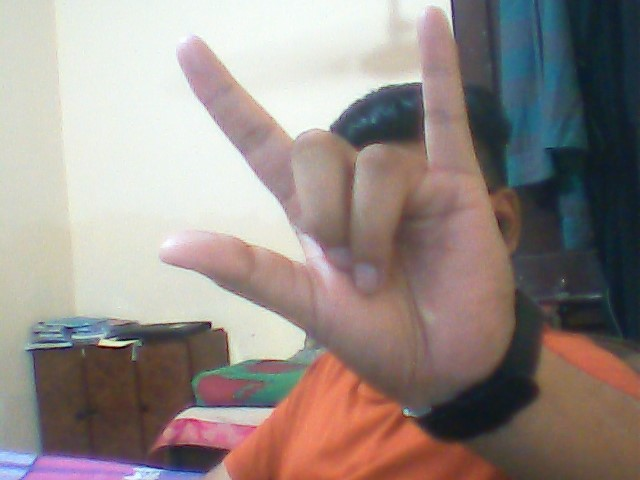Cheers: (156, 4, 526, 367)
